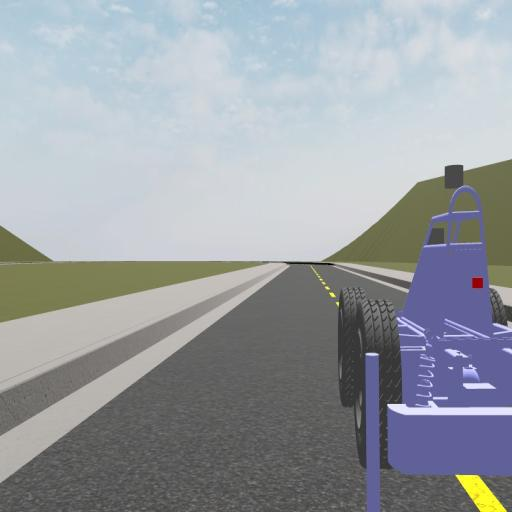ERP-42: (337, 166, 512, 478)
